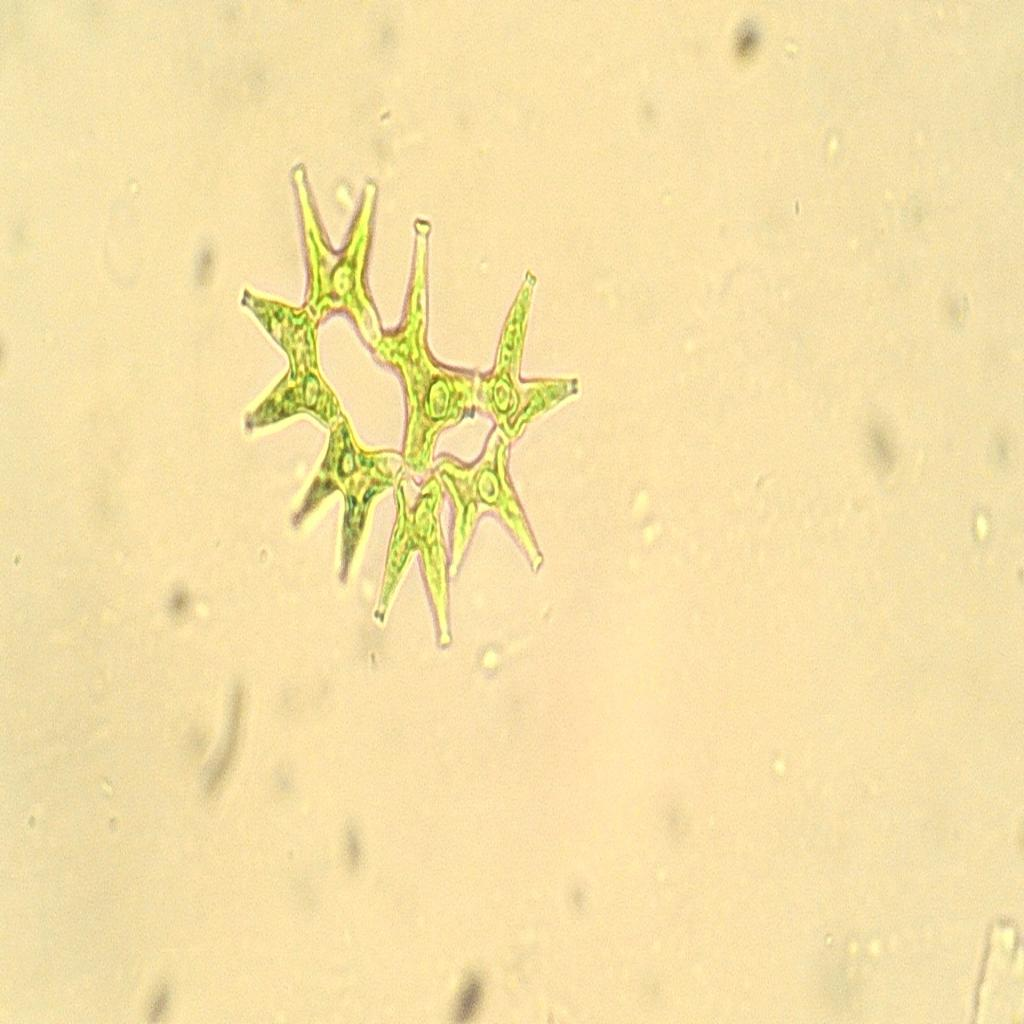Pediastrum_CFI: (223, 139, 582, 678)
